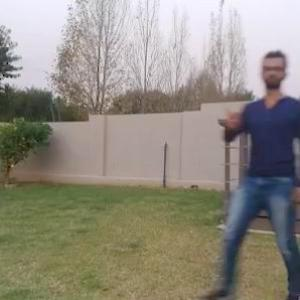takeoff-hand: (222, 100, 246, 134)
